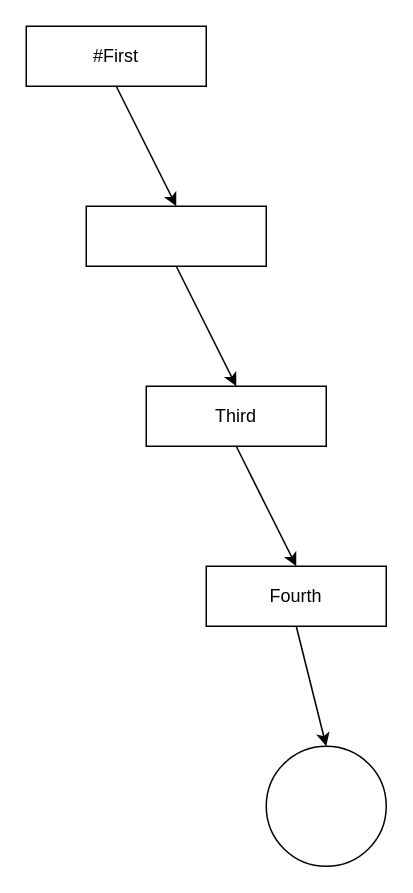
The diagram is 413 pixels wide and 893 high, and some of its shapes have lost their labels. Each missing label, with the centre of its shape:
"Fifth" goes at [325,805].
"Second" goes at [175,235].
